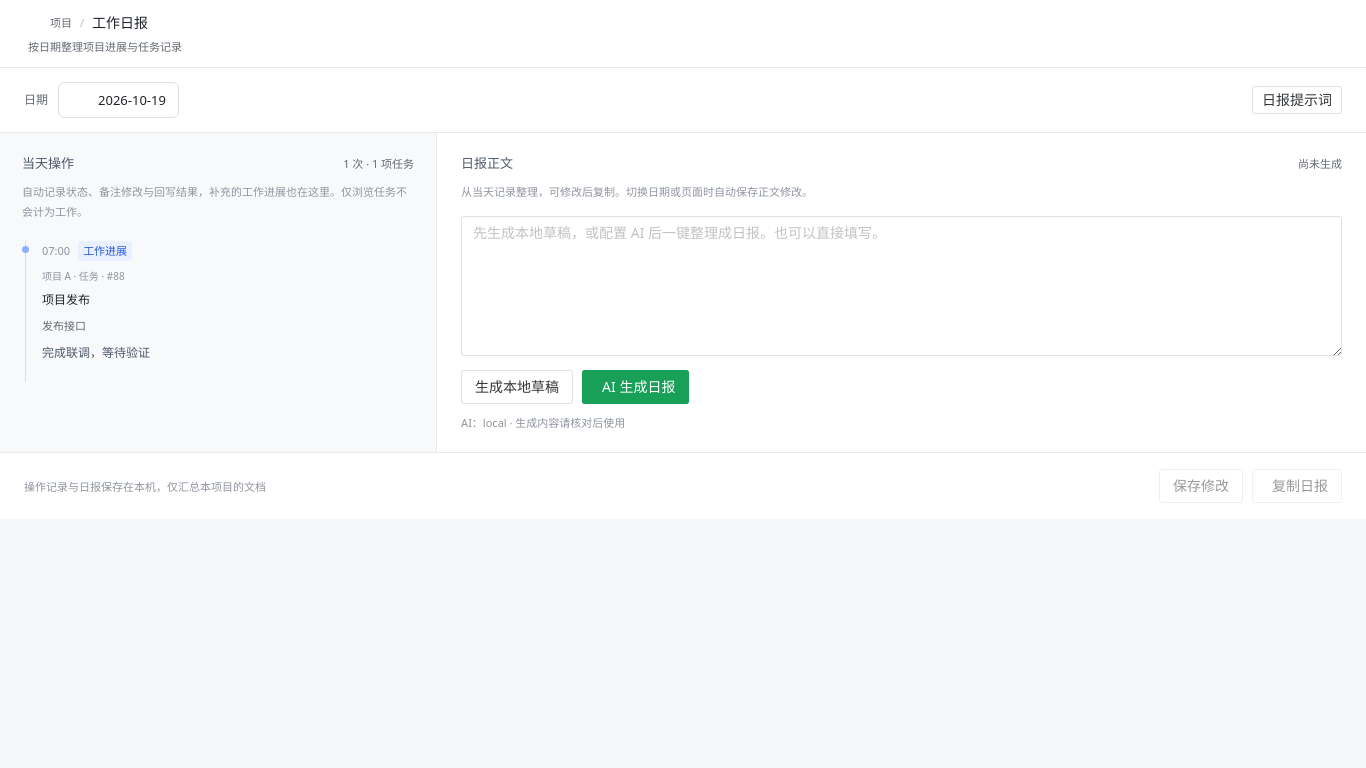
Test case: daily report panel › keeps AI errors visible and supports cancel without losing the existing draft
Click the button "AI 生成日报".
click(636, 387)  # box x1=582 y1=370 x2=689 y2=404
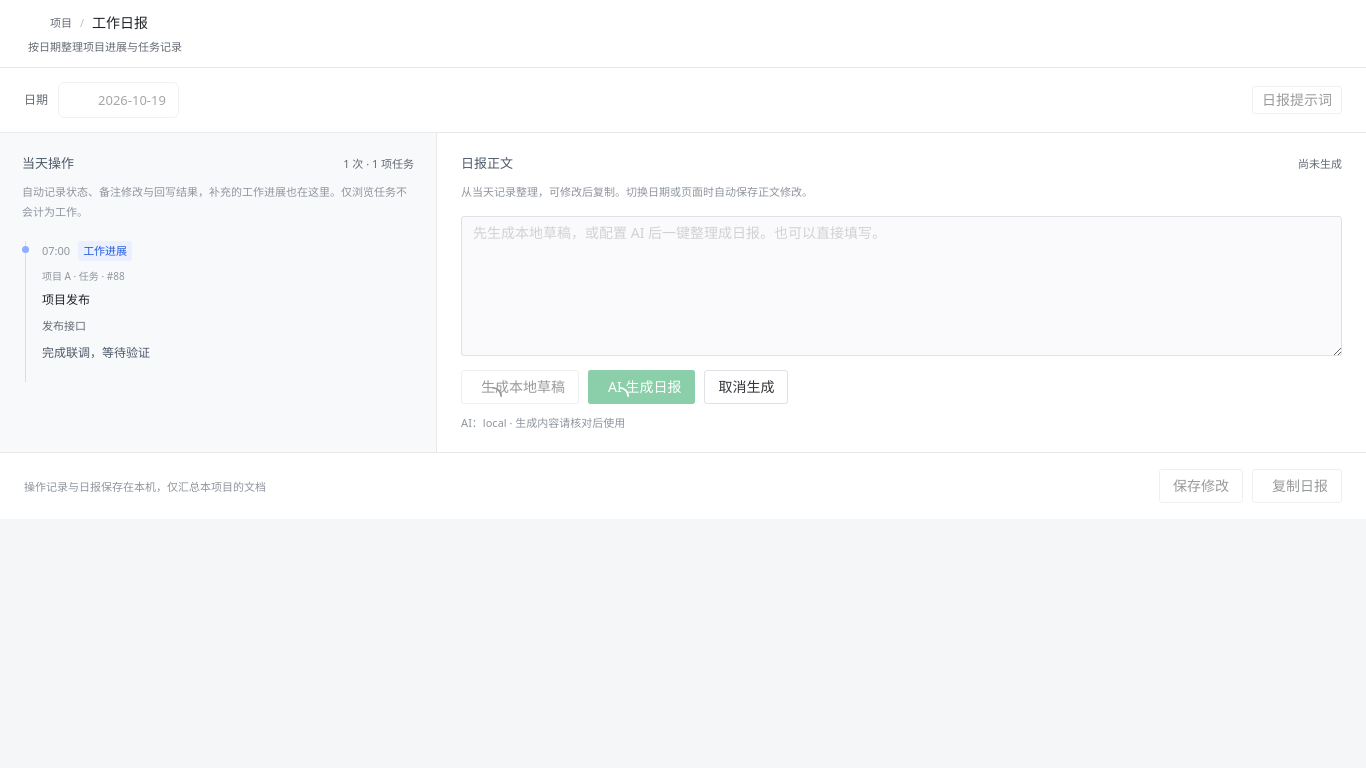
Now the button with id "daily-date" is disabled, box x1=58 y1=82 x2=179 y2=118
Click the button "取消生成".
click(746, 387)  # box x1=704 y1=370 x2=788 y2=404
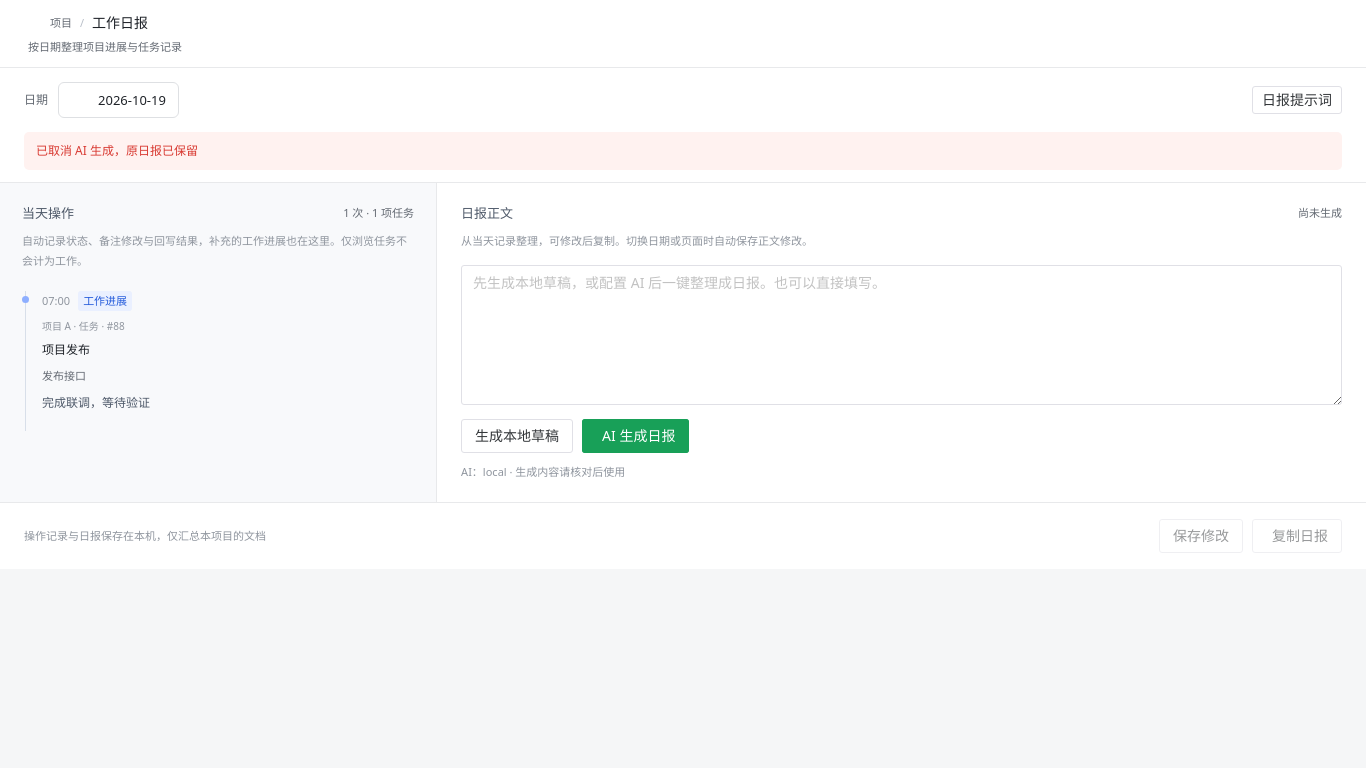
Expected: the text box with placeholder "先生成本地草稿，或配置 AI 后一键整理成日报。也可以直接填写。" is empty, x1=473 y1=265 x2=1330 y2=405
Now the message "已取消 AI 生成，原日报已保留" is shown, box x1=24 y1=132 x2=1342 y2=170
